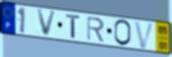1: (17, 6, 27, 35)
O: (113, 19, 133, 48)
R: (86, 15, 105, 43)
T: (65, 14, 82, 40)
V: (133, 20, 156, 50), (36, 9, 58, 38)
